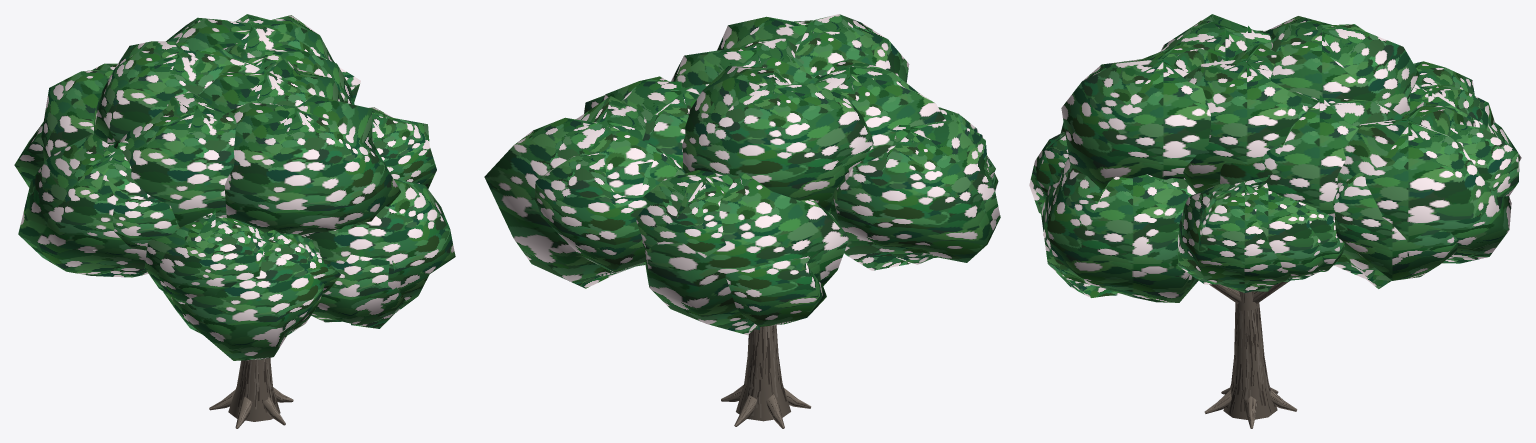
File: tree_magnolia.glb
The picture shows the model from 3 angles, left to right: view 1: azimuth 30°, elevation 25°; view 2: azimuth 150°, elevation 25°; view 3: azimuth 270°, elevation 25°; orthographic projection. The views are drawn at different scales.
Visible parts, largest first — view 1: canopy, trunk; view 2: canopy, trunk; view 3: canopy, trunk.
Boxes of the visible parts, x1,y1,x2,y2 form: canopy: (14,14,455,360); trunk: (209,357,293,428); canopy: (484,14,1000,335); trunk: (721,325,811,428); canopy: (1029,14,1521,302); trunk: (1204,282,1297,428).
Size of the model in its own units: 9.1 by 7.68 by 9.5.
Materials: 2 (2 with a texture image).
